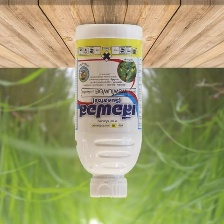insecticide: (72, 19, 145, 201)
